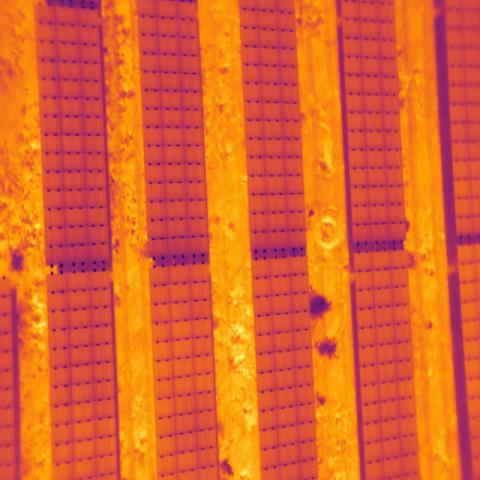fault: (168, 300, 193, 324)
